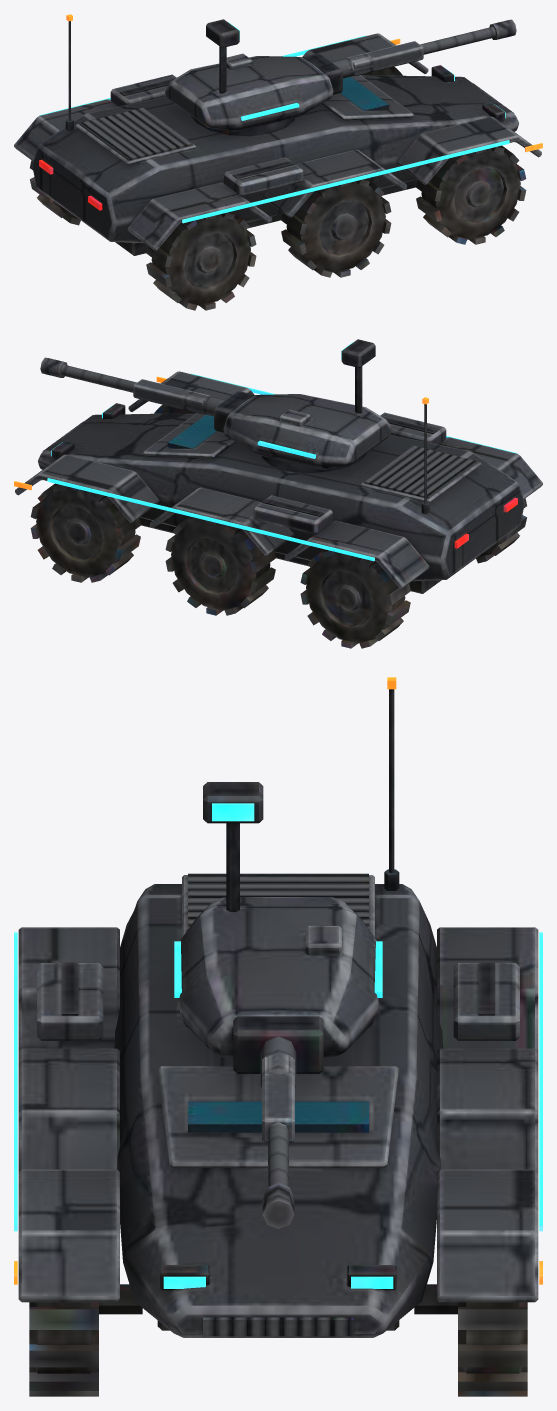
Rendered from outrider.glb.
3 renders of one model, top to bottom at view 1: azimuth 30°, elevation 25°; view 2: azimuth 150°, elevation 25°; view 3: azimuth 270°, elevation 25°, orthographic. The views are drawn at different scales.
Visible parts, largest first — view 1: Hull, Turret, Wheel2R, Wheel0R, Wheel1R, Wheel0L; view 2: Hull, Turret, Wheel2L, Wheel0L, Wheel1L, Wheel0R; view 3: Hull, Turret, Wheel2L, Wheel2R.
Boxes of the visible parts, x1,y1,x2,y2 form: Hull: (14, 14, 542, 255); Turret: (165, 19, 516, 136); Wheel2R: (416, 145, 526, 244); Wheel0R: (146, 211, 256, 310); Wheel1R: (281, 178, 391, 277); Wheel0L: (30, 160, 80, 225); Hull: (14, 371, 542, 593); Turret: (40, 339, 391, 473); Wheel2L: (30, 483, 140, 582); Wheel0L: (300, 549, 410, 648); Wheel1L: (165, 516, 275, 615); Wheel0R: (476, 498, 526, 563); Hull: (14, 677, 542, 1337); Turret: (174, 782, 382, 1228); Wheel2L: (458, 1302, 527, 1396); Wheel2R: (29, 1302, 98, 1396).
Bounding box in the file's own units: 6.24 × 3.12 × 3.5.
Materials: 1 (1 with a texture image).
